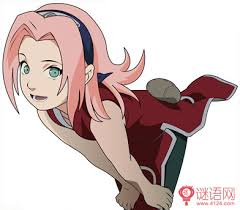sakura: (10, 7, 98, 112)
